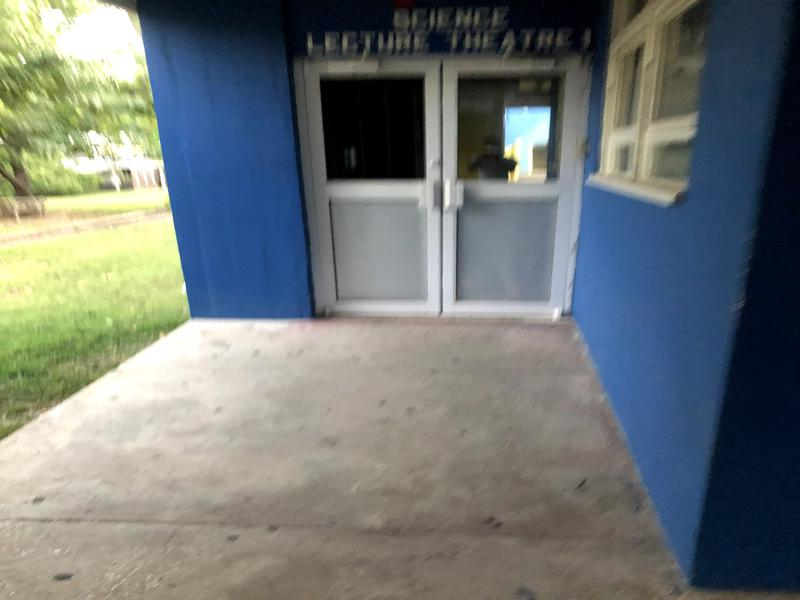18.0051836_-76.7497262_pclt1: (267, 1, 604, 341)
